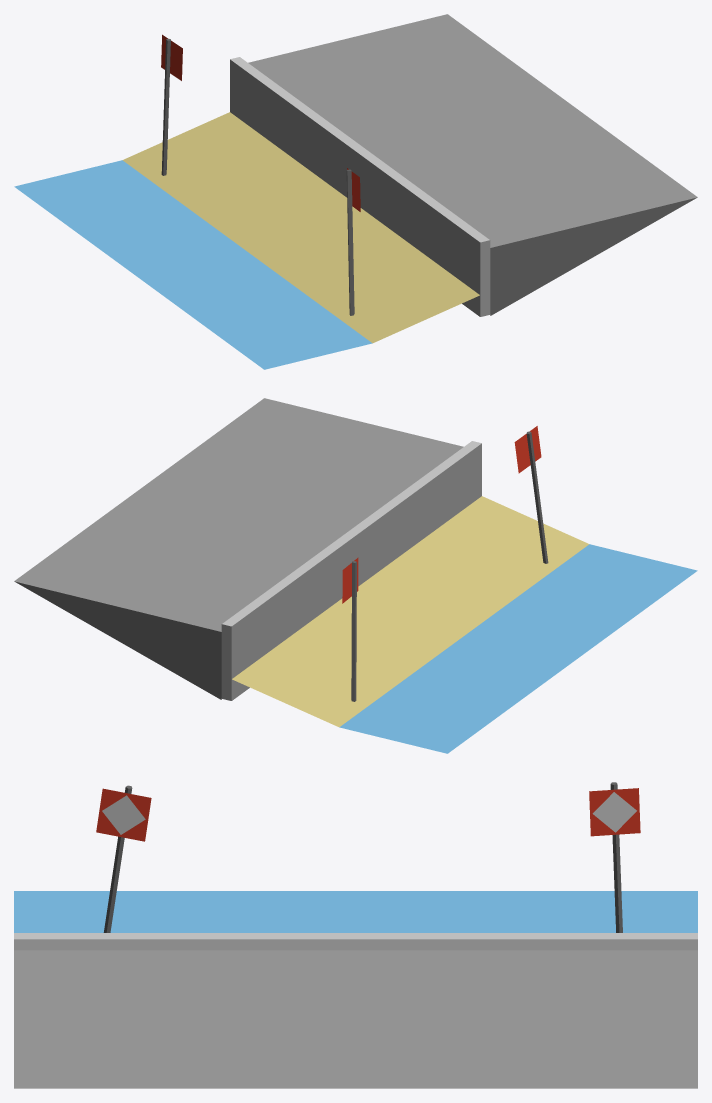
Rendered from Beach_Tile_3.fbx.
3 renders of one model, top to bottom at view 1: azimuth 30°, elevation 25°; view 2: azimuth 150°, elevation 25°; view 3: azimuth 270°, elevation 25°, orthographic. The views are drawn at different scales.
Parts seen in each view (by area): view 1: Beach_Road_3, Beach_Sign_3_2, Beach_Sign_3_1; view 2: Beach_Road_3, Beach_Sign_3_1, Beach_Sign_3_2; view 3: Beach_Road_3, Beach_Sign_3_2, Beach_Sign_3_1.
Part boxes in pixels (bbox=[...]): Beach_Road_3: bbox=[14, 14, 697, 369]; Beach_Sign_3_2: bbox=[161, 34, 182, 175]; Beach_Sign_3_1: bbox=[346, 168, 360, 315]; Beach_Road_3: bbox=[14, 398, 697, 753]; Beach_Sign_3_1: bbox=[514, 426, 548, 563]; Beach_Sign_3_2: bbox=[342, 557, 358, 701]; Beach_Road_3: bbox=[14, 891, 697, 1088]; Beach_Sign_3_2: bbox=[589, 782, 640, 932]; Beach_Sign_3_1: bbox=[96, 785, 151, 932].
Size of the model in its own units: 4 by 1.24 by 4.
